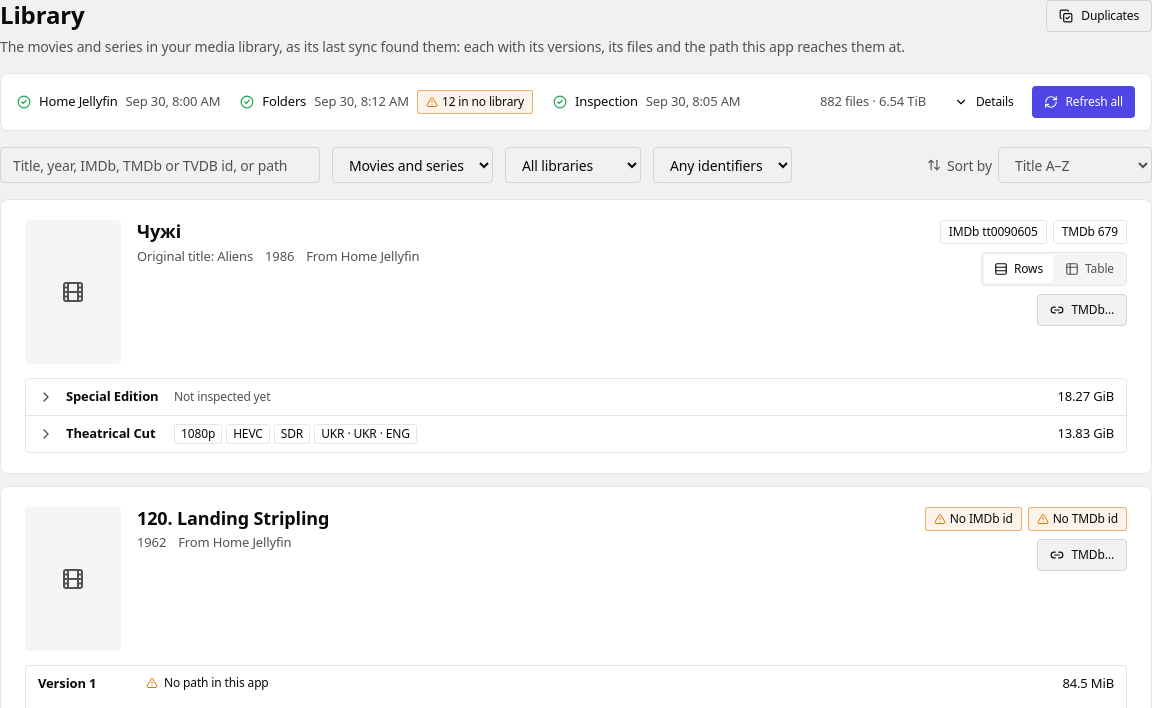
LibraryPage TMDb links › opens the work's TMDb dialog from its card and closes it on Cancel
The image size is (1152, 708).
Click the button "TMDb…" below "No IMDb id" at x=1082, y=554, box [1036,538,1127,570]
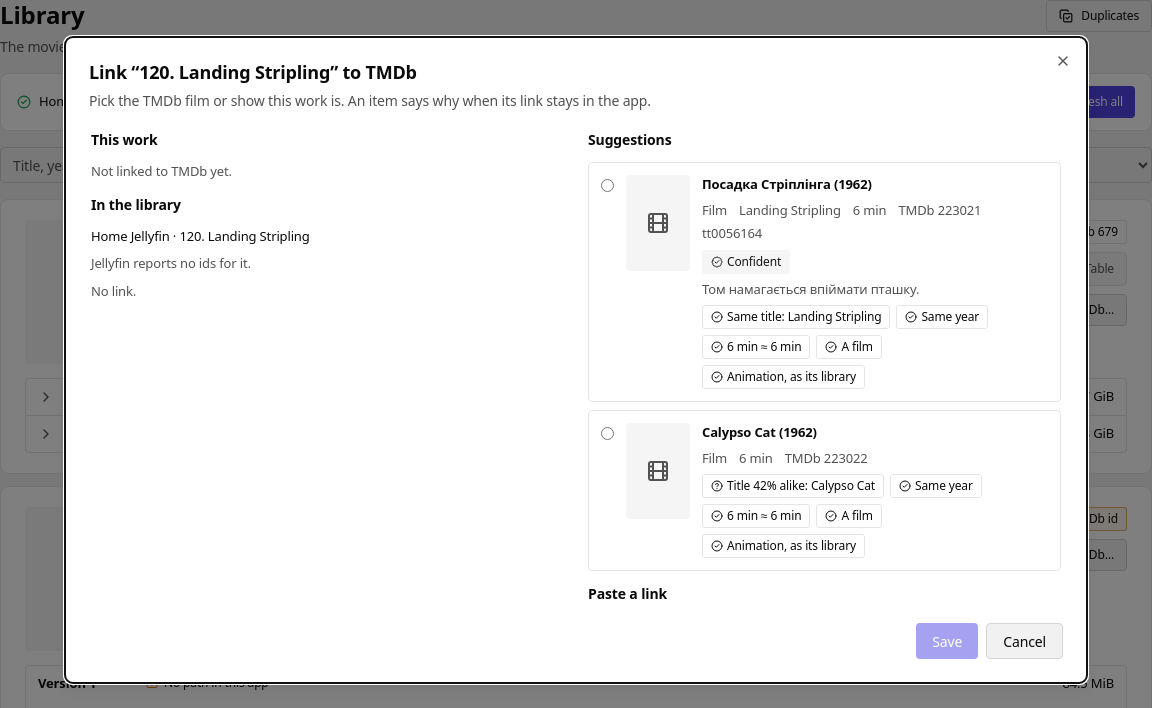
Now the heading "Suggestions" is shown, box [588,130,672,149]
Click the button "Cancel" at x=1025, y=641, box [986,623,1063,659]
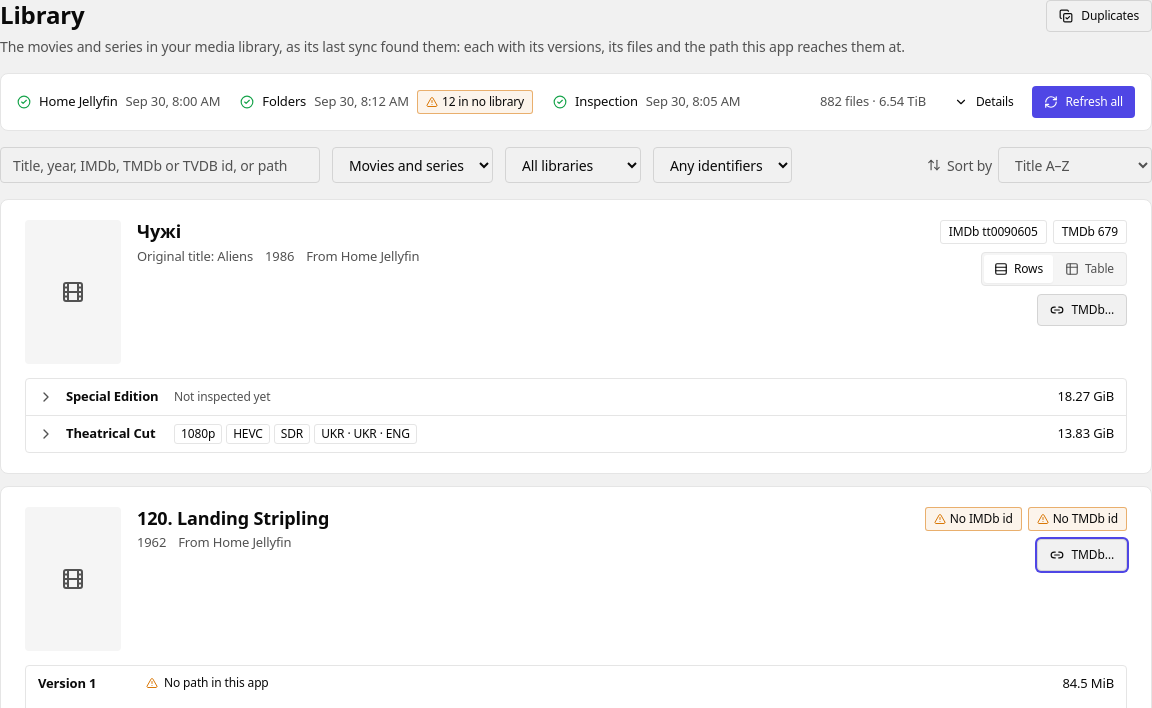
Now the dialog is gone
